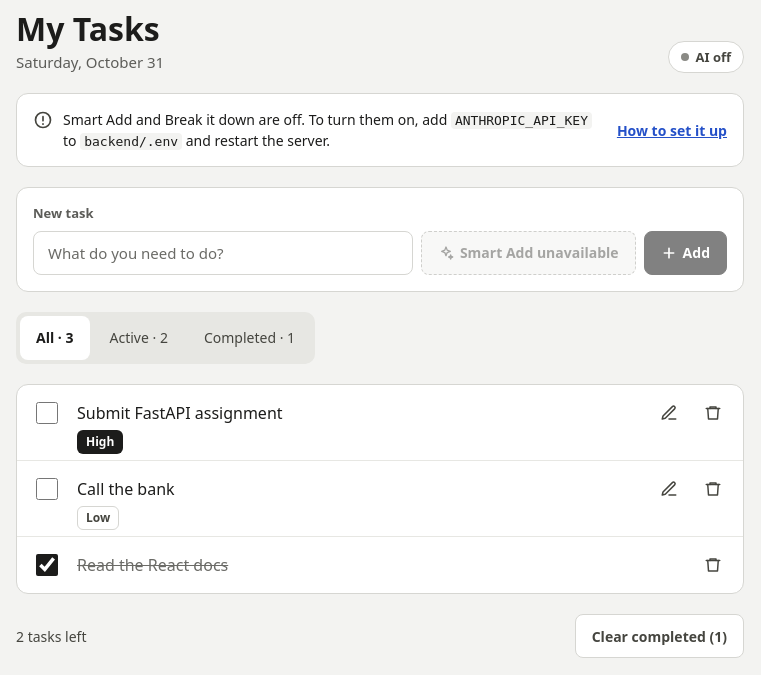
Test: editing, filters and clear completed › filters by status and shows counts
Step 1. Click the button "Active · 2" → (139, 338), box [94,316,184,360]
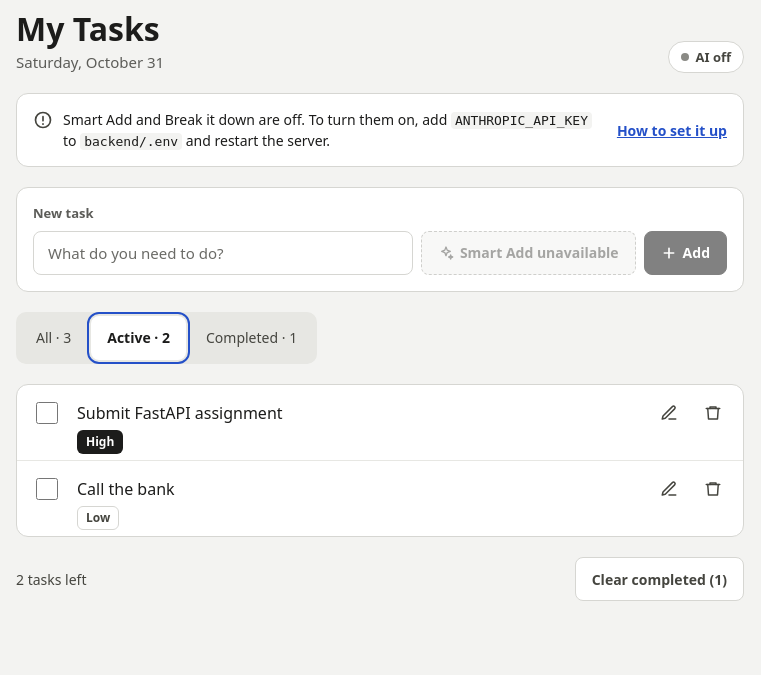
Expected: the text "Read the React docs" is gone
Step 2. Click the button "Completed · 1" → (252, 338), box [190,316,313,360]
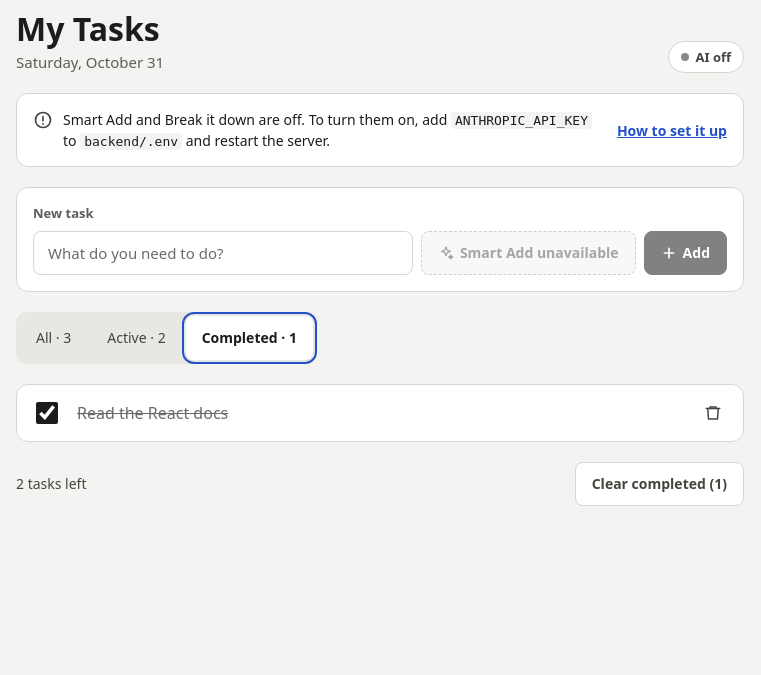
Expected: the number of checkboxes is 1, [36,402,58,424]
Expected: the checkbox named "Read the React docs" is checked, [36,402,58,424]
